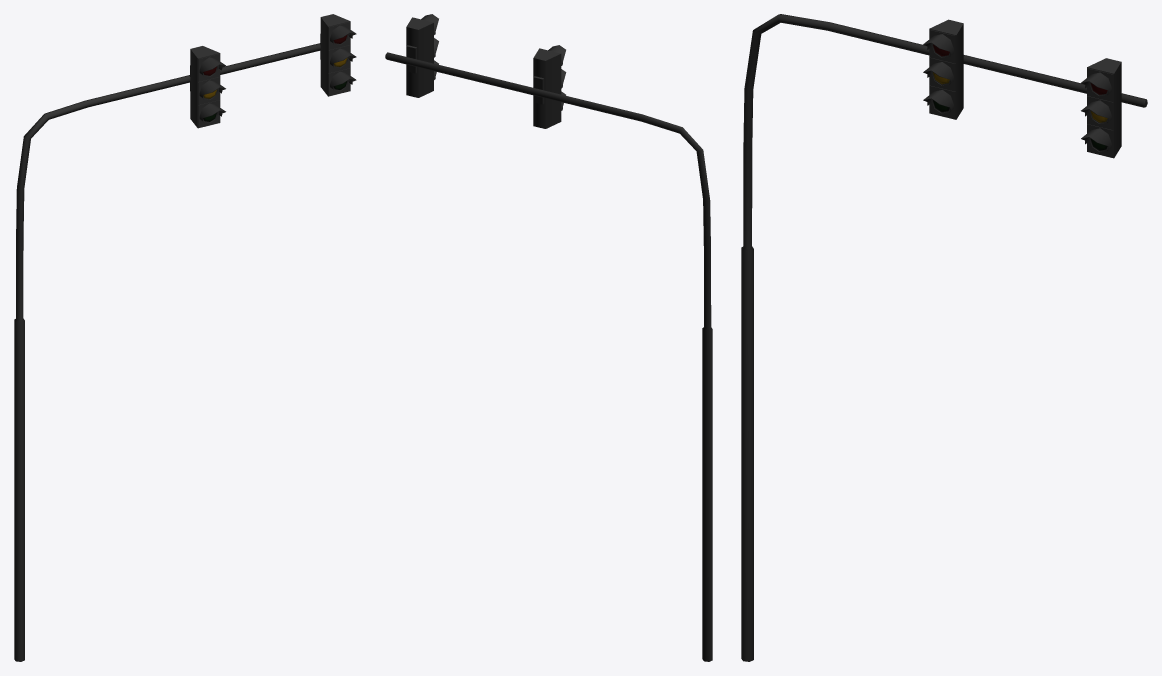
Rendered from CurvedTrafficLight_Double.fbx.
The picture shows the model from 3 angles, left to right: view 1: azimuth 30°, elevation 25°; view 2: azimuth 150°, elevation 25°; view 3: azimuth 330°, elevation 25°; orthographic projection. The views are drawn at different scales.
Visible parts, largest first — view 1: CurvedTrafficLight_Double; view 2: CurvedTrafficLight_Double; view 3: CurvedTrafficLight_Double.
Boxes of the visible parts, x1=… form: CurvedTrafficLight_Double: x1=14, y1=14, x2=356, y2=661; CurvedTrafficLight_Double: x1=385, y1=14, x2=712, y2=661; CurvedTrafficLight_Double: x1=741, y1=14, x2=1147, y2=661.
Size of the model in its own units: 478 by 781 by 65.86.
